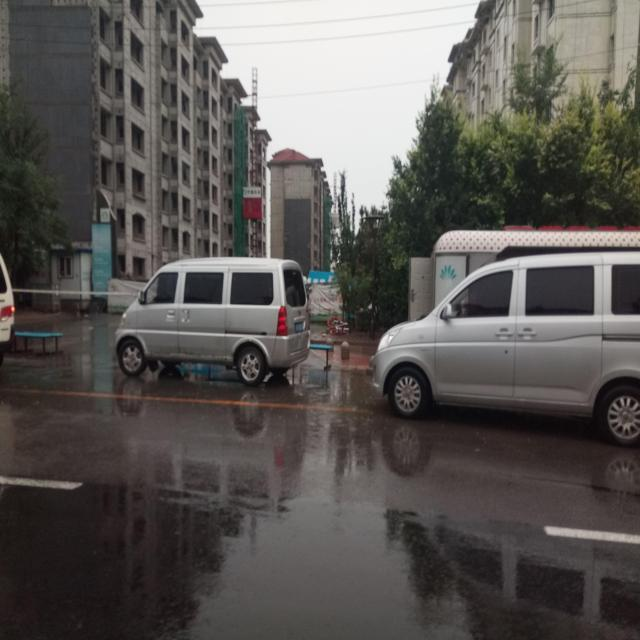car: (370, 249, 640, 444), (114, 258, 311, 387), (0, 252, 15, 368)
